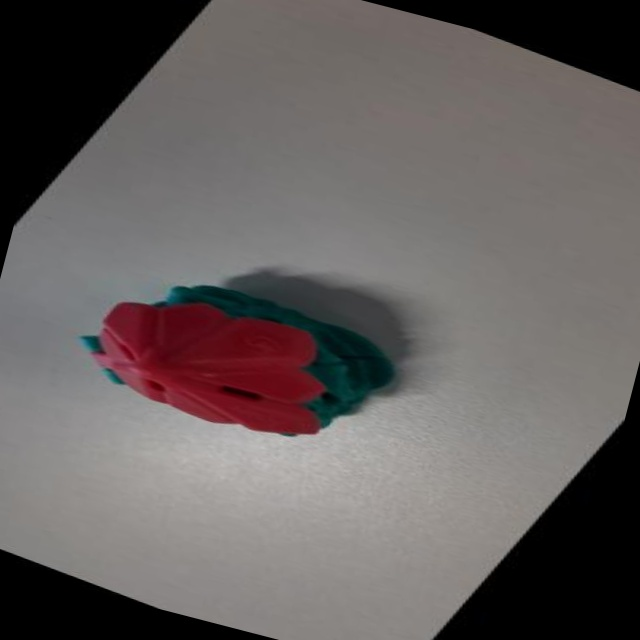House: (42, 231, 441, 494)
